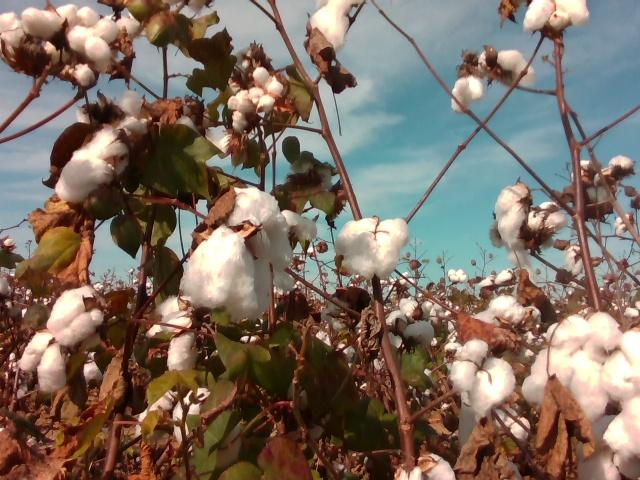cotton_ready: (179, 187, 291, 322), (521, 313, 621, 421), (54, 116, 151, 204), (604, 330, 640, 480), (136, 385, 209, 450), (452, 340, 515, 414), (336, 218, 410, 280), (490, 183, 529, 272), (458, 405, 528, 454), (67, 6, 118, 73), (48, 285, 104, 344), (573, 416, 622, 480), (18, 332, 67, 393), (282, 136, 335, 184), (0, 9, 39, 73), (306, 0, 354, 50), (22, 4, 77, 45), (522, 0, 590, 33), (478, 50, 537, 88), (573, 161, 616, 204), (247, 68, 285, 114), (395, 454, 456, 480), (489, 295, 539, 325), (159, 296, 196, 334), (283, 209, 319, 248), (451, 76, 484, 114), (168, 333, 200, 372), (386, 299, 434, 324), (103, 11, 143, 40), (41, 40, 71, 76), (227, 89, 252, 132), (116, 89, 150, 120), (319, 295, 348, 331), (528, 201, 566, 227), (83, 347, 108, 383), (401, 320, 433, 347), (71, 65, 97, 92), (565, 245, 584, 276), (75, 103, 99, 125), (608, 155, 634, 175), (218, 135, 238, 158)
